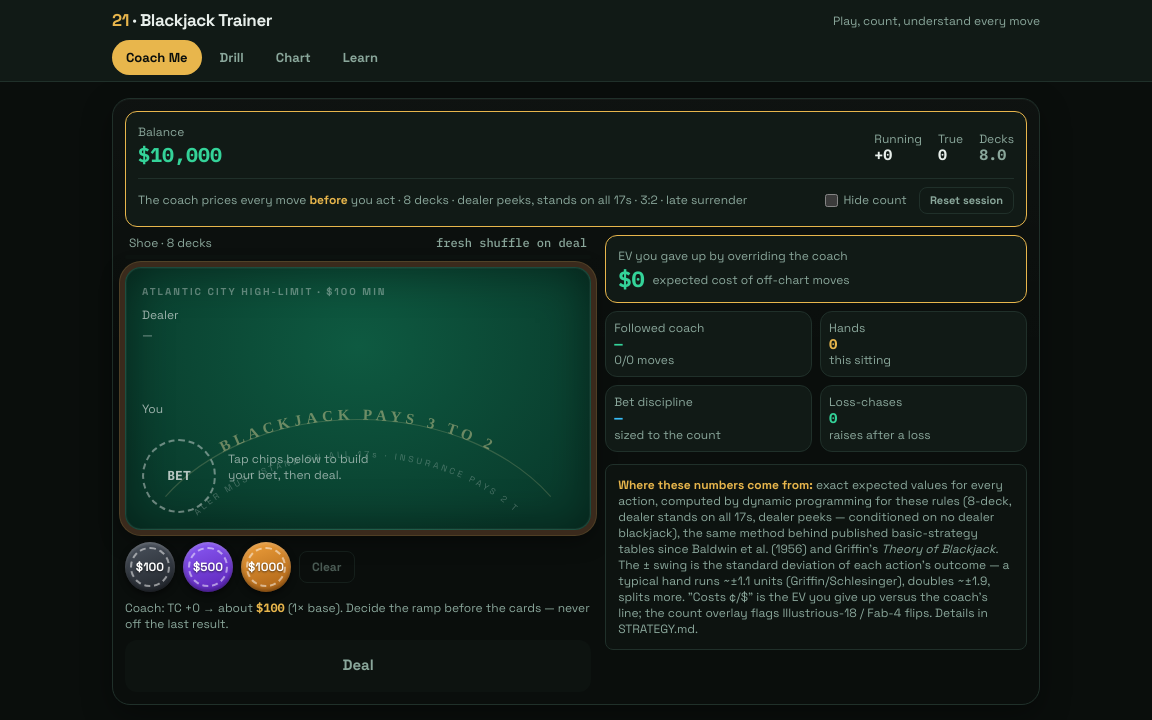
Test: App smoke test › plays a Coach Me round without crashing: bet → deal → cards on the felt
Click the button with class "chip-btn" showing "$100".
click(150, 566)  # box [125, 542, 175, 592]
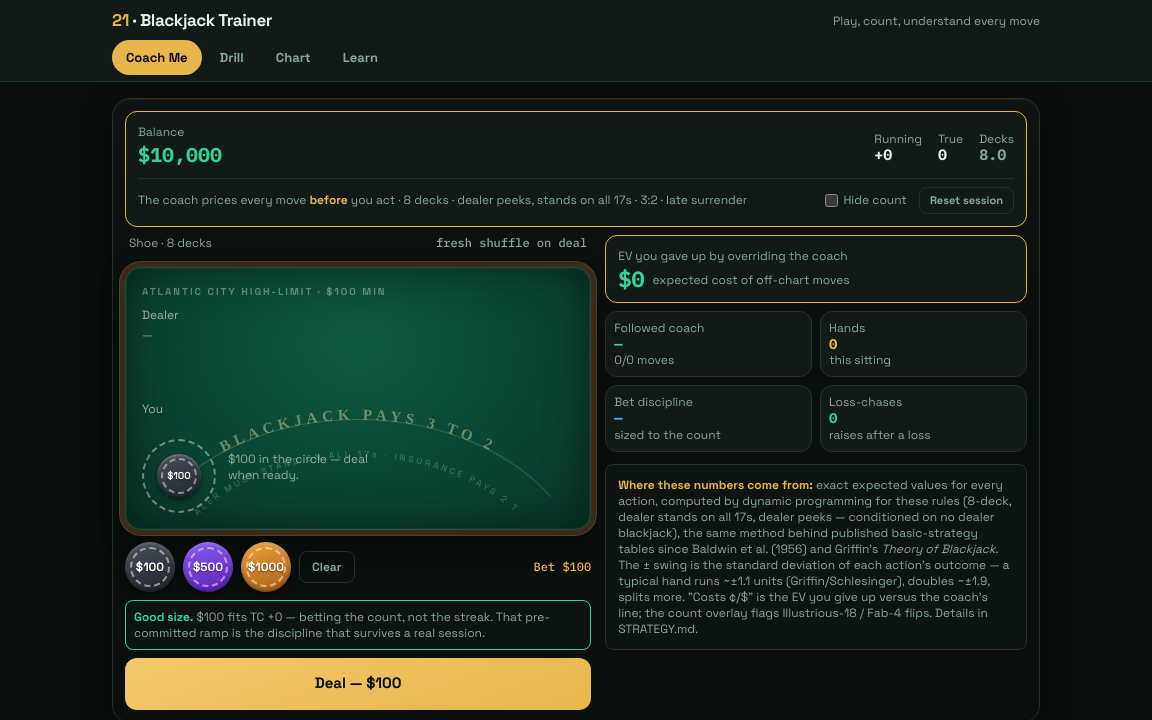
Click the button "Deal — $100".
click(358, 684)  # box [125, 658, 591, 710]
(page scrolled)
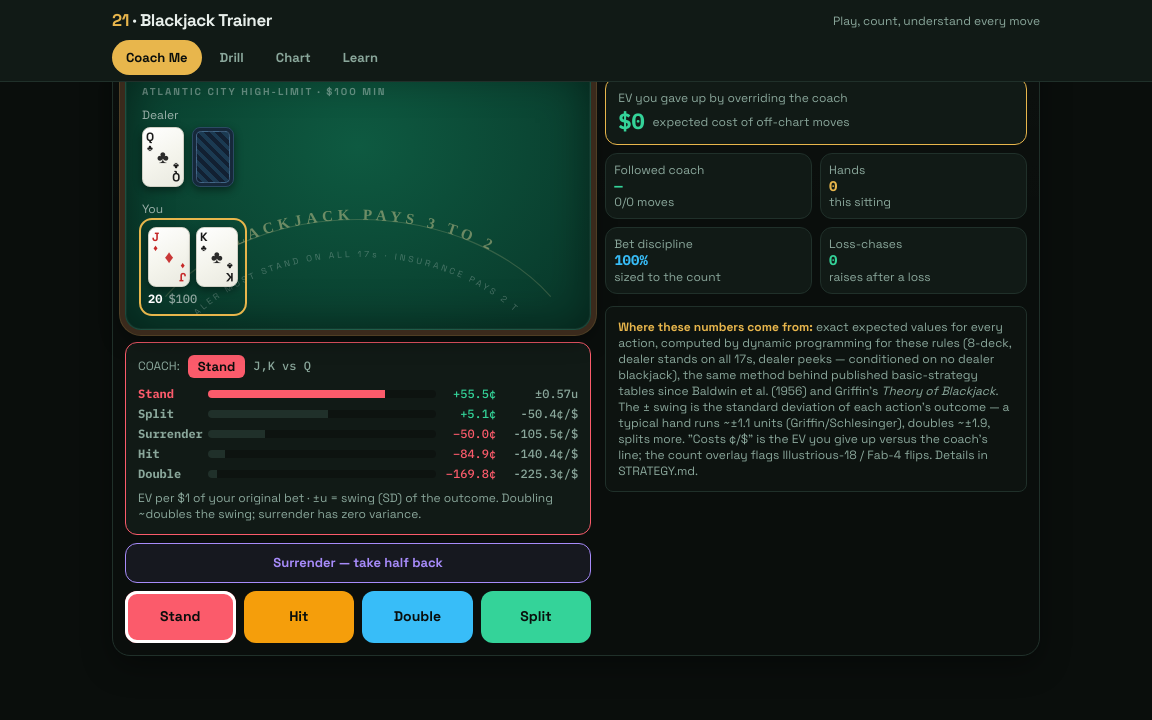
Expected: the button "Stand" is shown, [125, 590, 236, 642]
